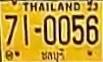0: (58, 14, 70, 44), (44, 14, 56, 44)
1: (24, 14, 28, 45)
5: (72, 14, 84, 44)
6: (86, 14, 98, 44)
7: (5, 14, 17, 45)
CBI: (39, 47, 66, 62)
